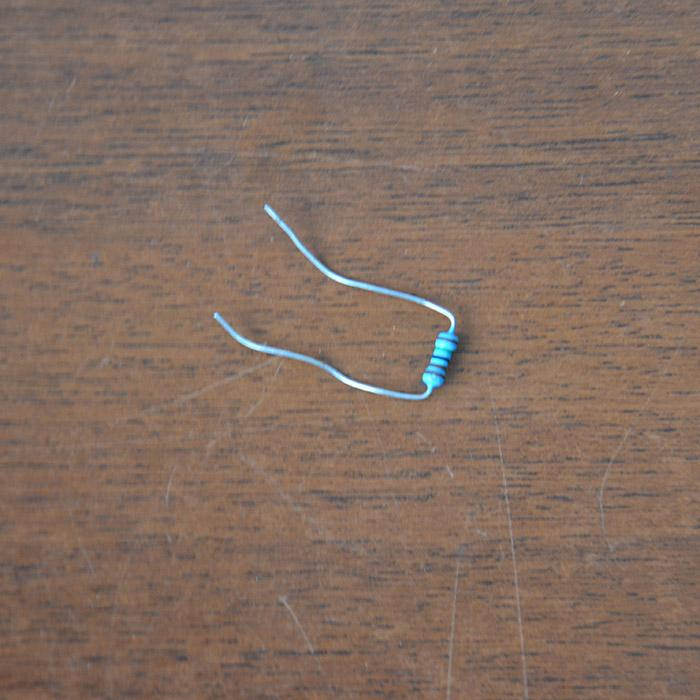resistor: (422, 330, 460, 389)
